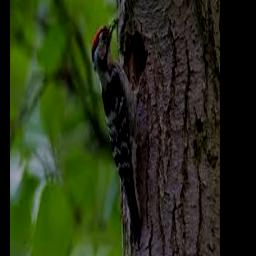Woodpecker: (92, 17, 147, 247)
